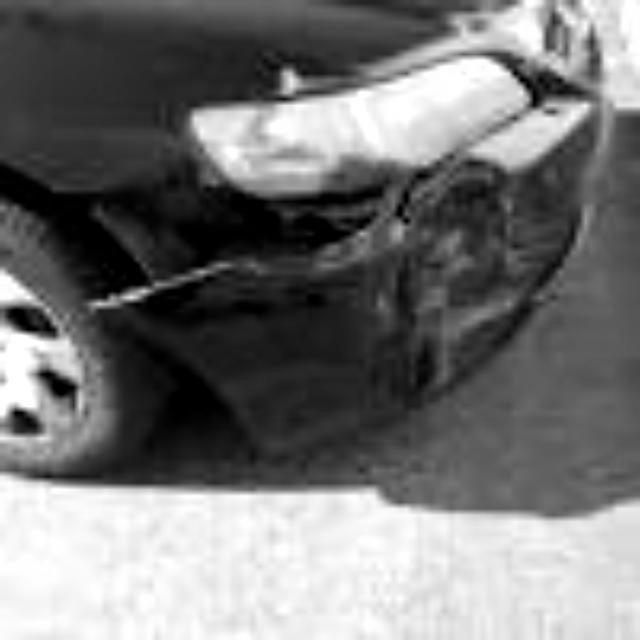front-bumper-dent: (26, 167, 634, 429)
